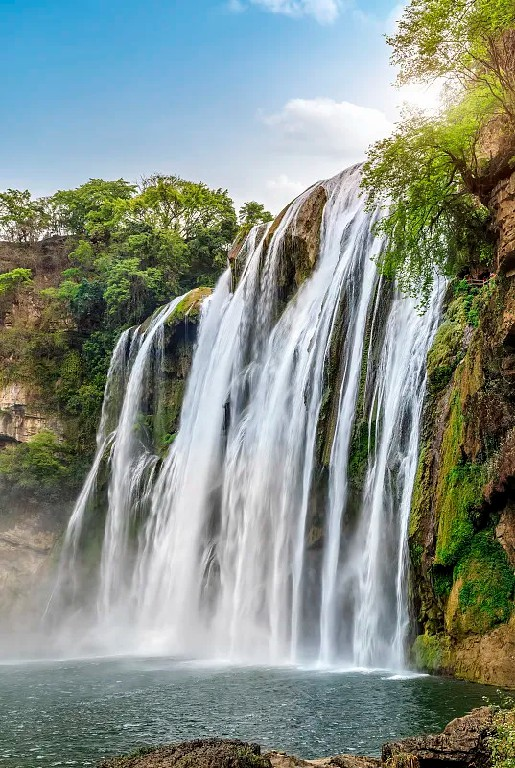Huangguoshu: (54, 156, 449, 676)
